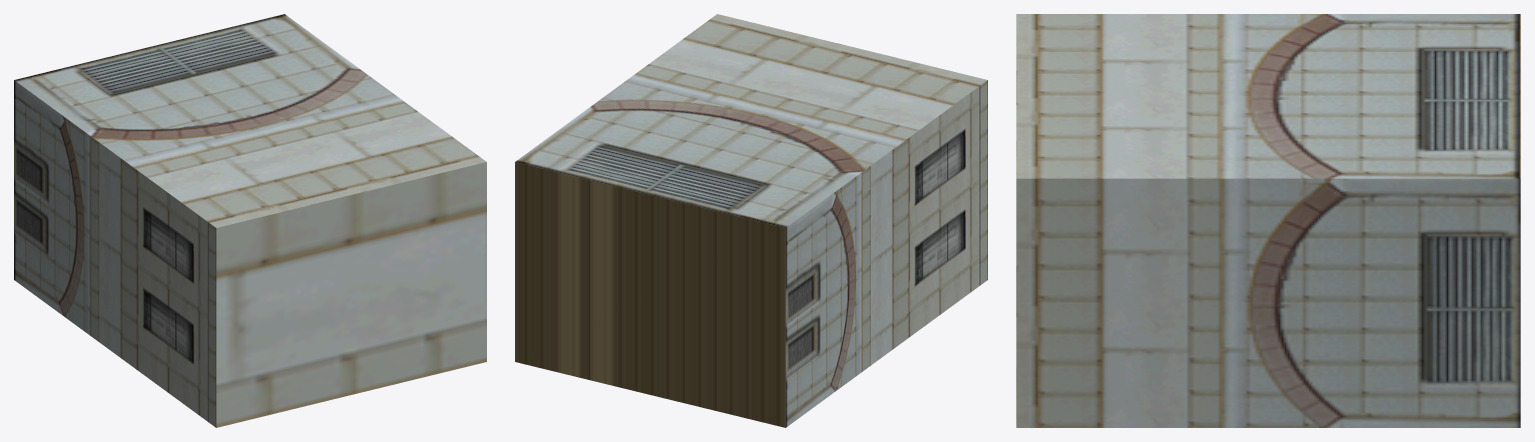
The model's file is building34x44x24_wtf.obj.
3 renders of one model, left to right at view 1: azimuth 30°, elevation 25°; view 2: azimuth 150°, elevation 25°; view 3: azimuth 270°, elevation 25°, orthographic. The views are drawn at different scales.
Visible parts, largest first — view 1: group4; view 2: group4; view 3: group4.
Part boxes in pixels (bbox=[...]): group4: bbox=[14, 14, 486, 427]; group4: bbox=[515, 14, 987, 427]; group4: bbox=[1016, 14, 1520, 427].
Size of the model in its own units: 510 by 360 by 660.
